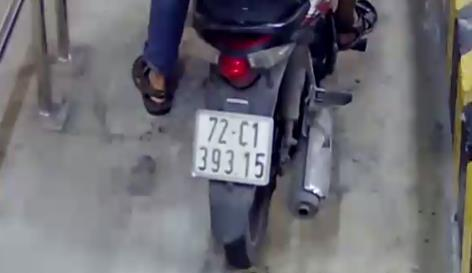lisence: (193, 108, 272, 185)
